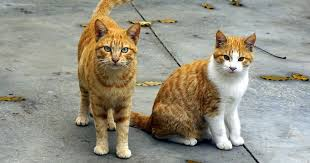cat: (130, 27, 260, 148), (60, 1, 141, 163)
